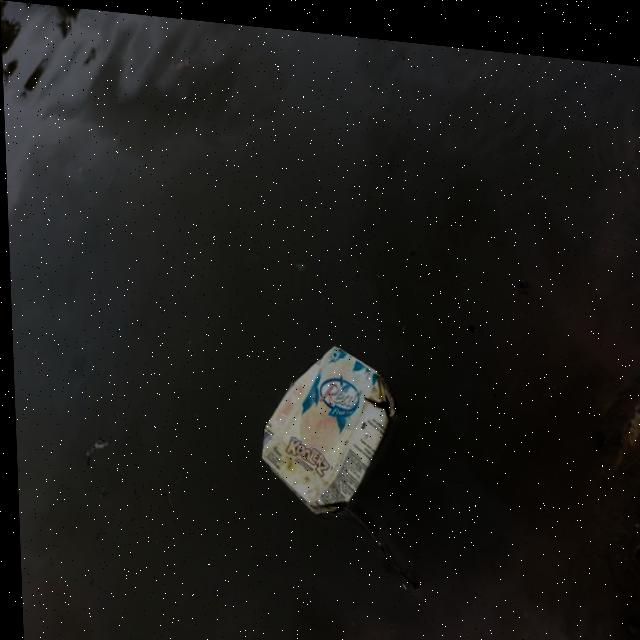paper: (241, 319, 458, 584)
